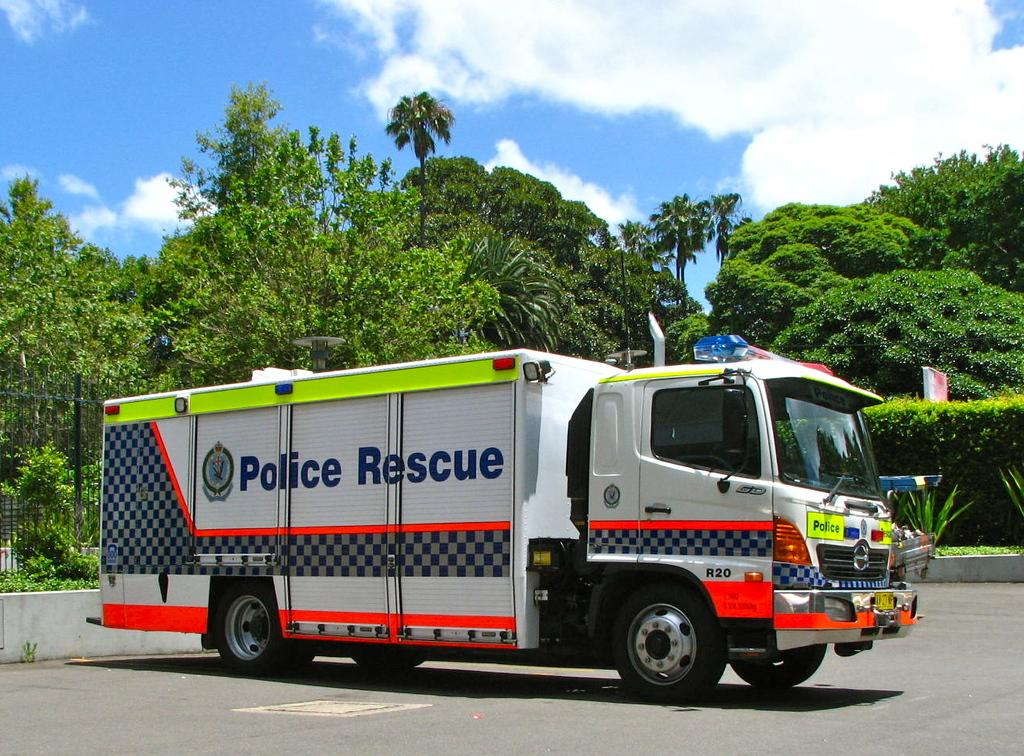Truck: (115, 362, 894, 703)
